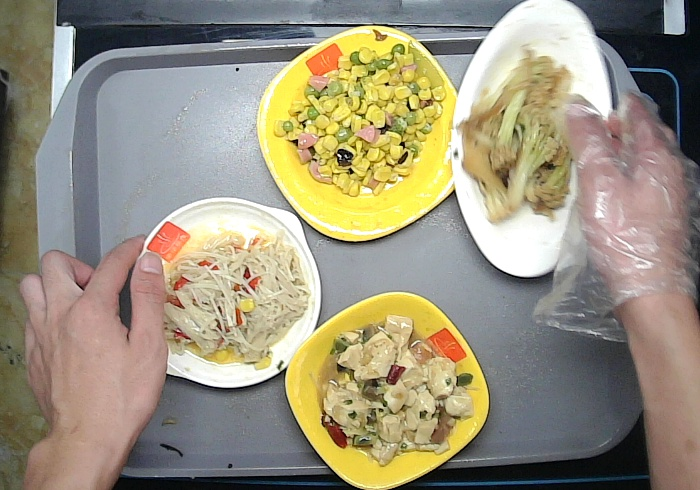SHKJ-Bao_Yu_Pan: (131, 198, 324, 392)
SHKJ-Huang_Se_Cai_Die: (283, 291, 491, 489)
SHKJ-Huang_Se_Si_Fang_Cai_Die: (257, 24, 463, 245)
SHKJ-Yu_Pan: (444, 1, 615, 278)
